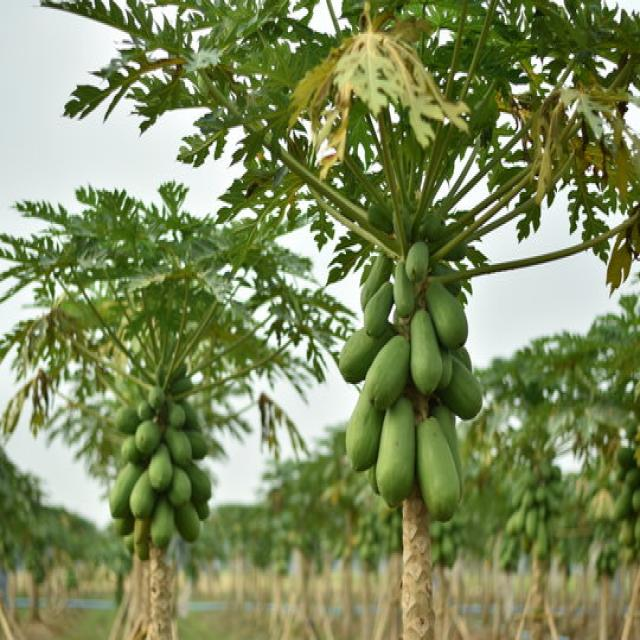Papaya-Tree: (33, 0, 634, 631), (1, 178, 337, 609)
